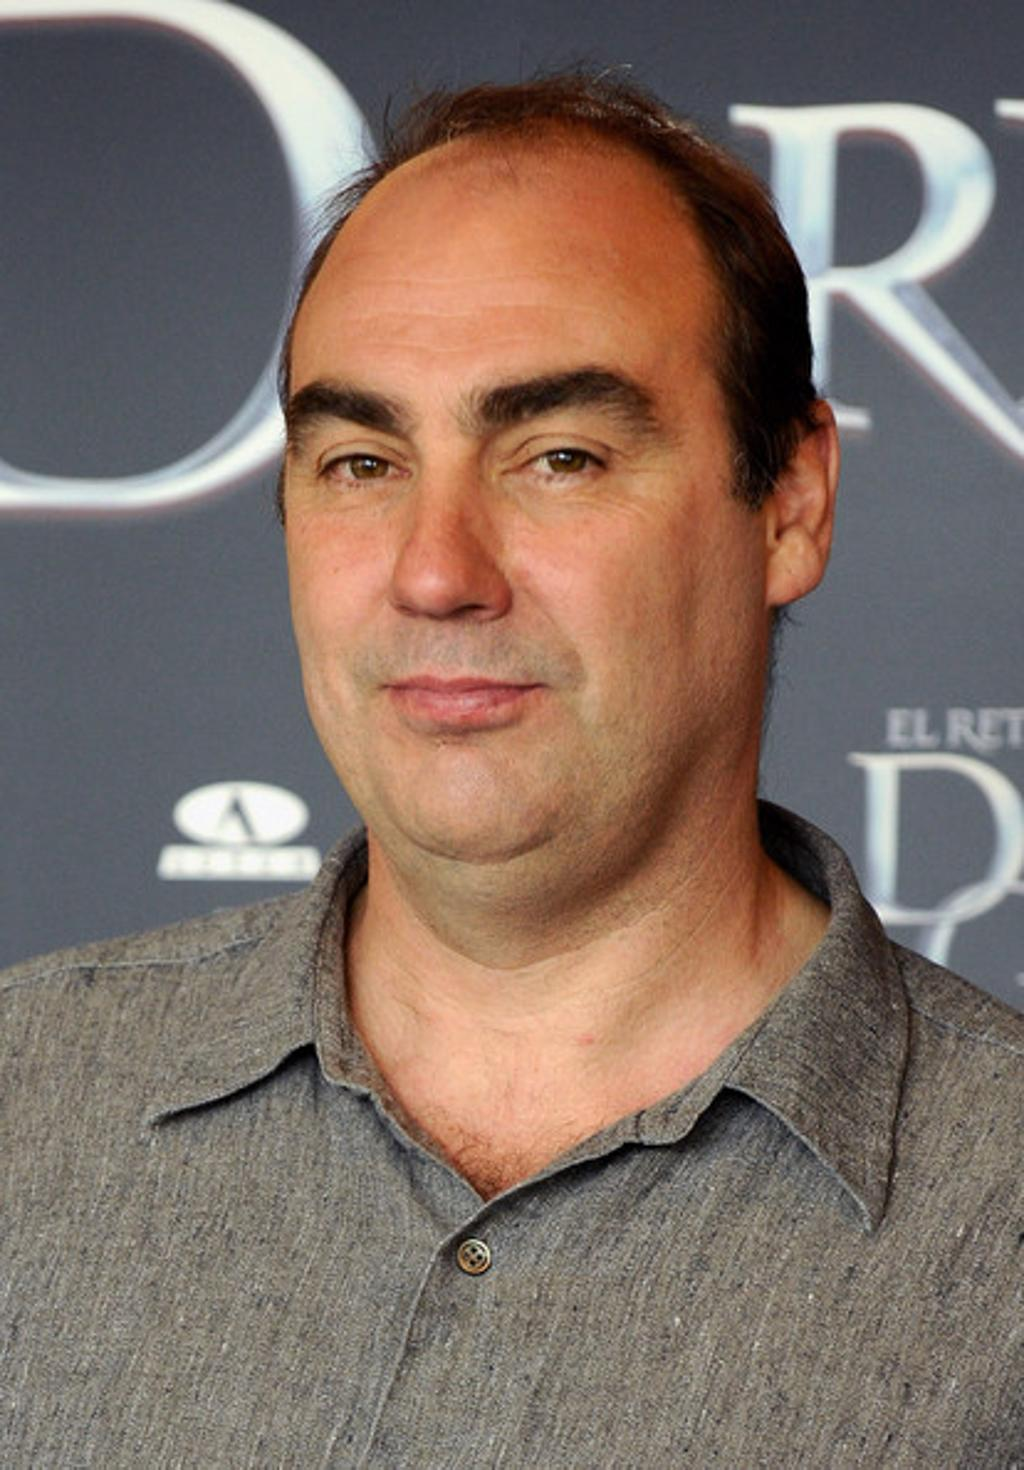face: (284, 141, 752, 861)
